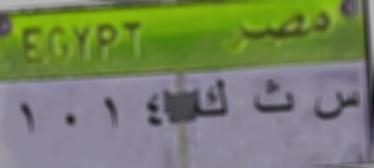0: (56, 98, 86, 139)
1: (12, 94, 44, 143), (96, 94, 126, 132)
4: (134, 87, 174, 140)
kaaf: (190, 72, 234, 124)
seen: (308, 80, 366, 128)
thaa: (250, 77, 300, 119)
